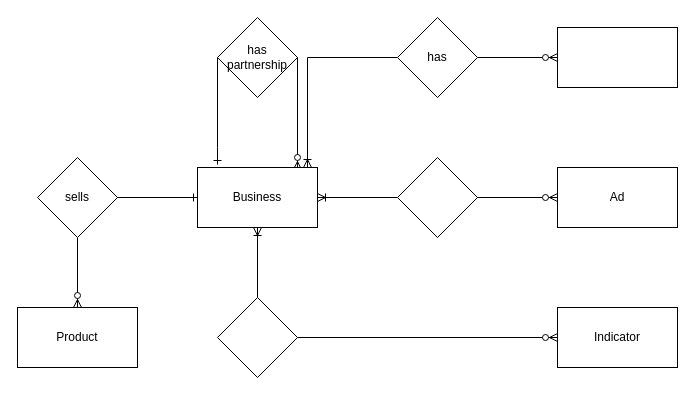
This 695x395 diagram has some shape labels left out. Each missing label, with the box of its shape:
access: (216, 296, 298, 378)
Customer: (556, 26, 678, 88)
shares: (396, 156, 478, 238)
